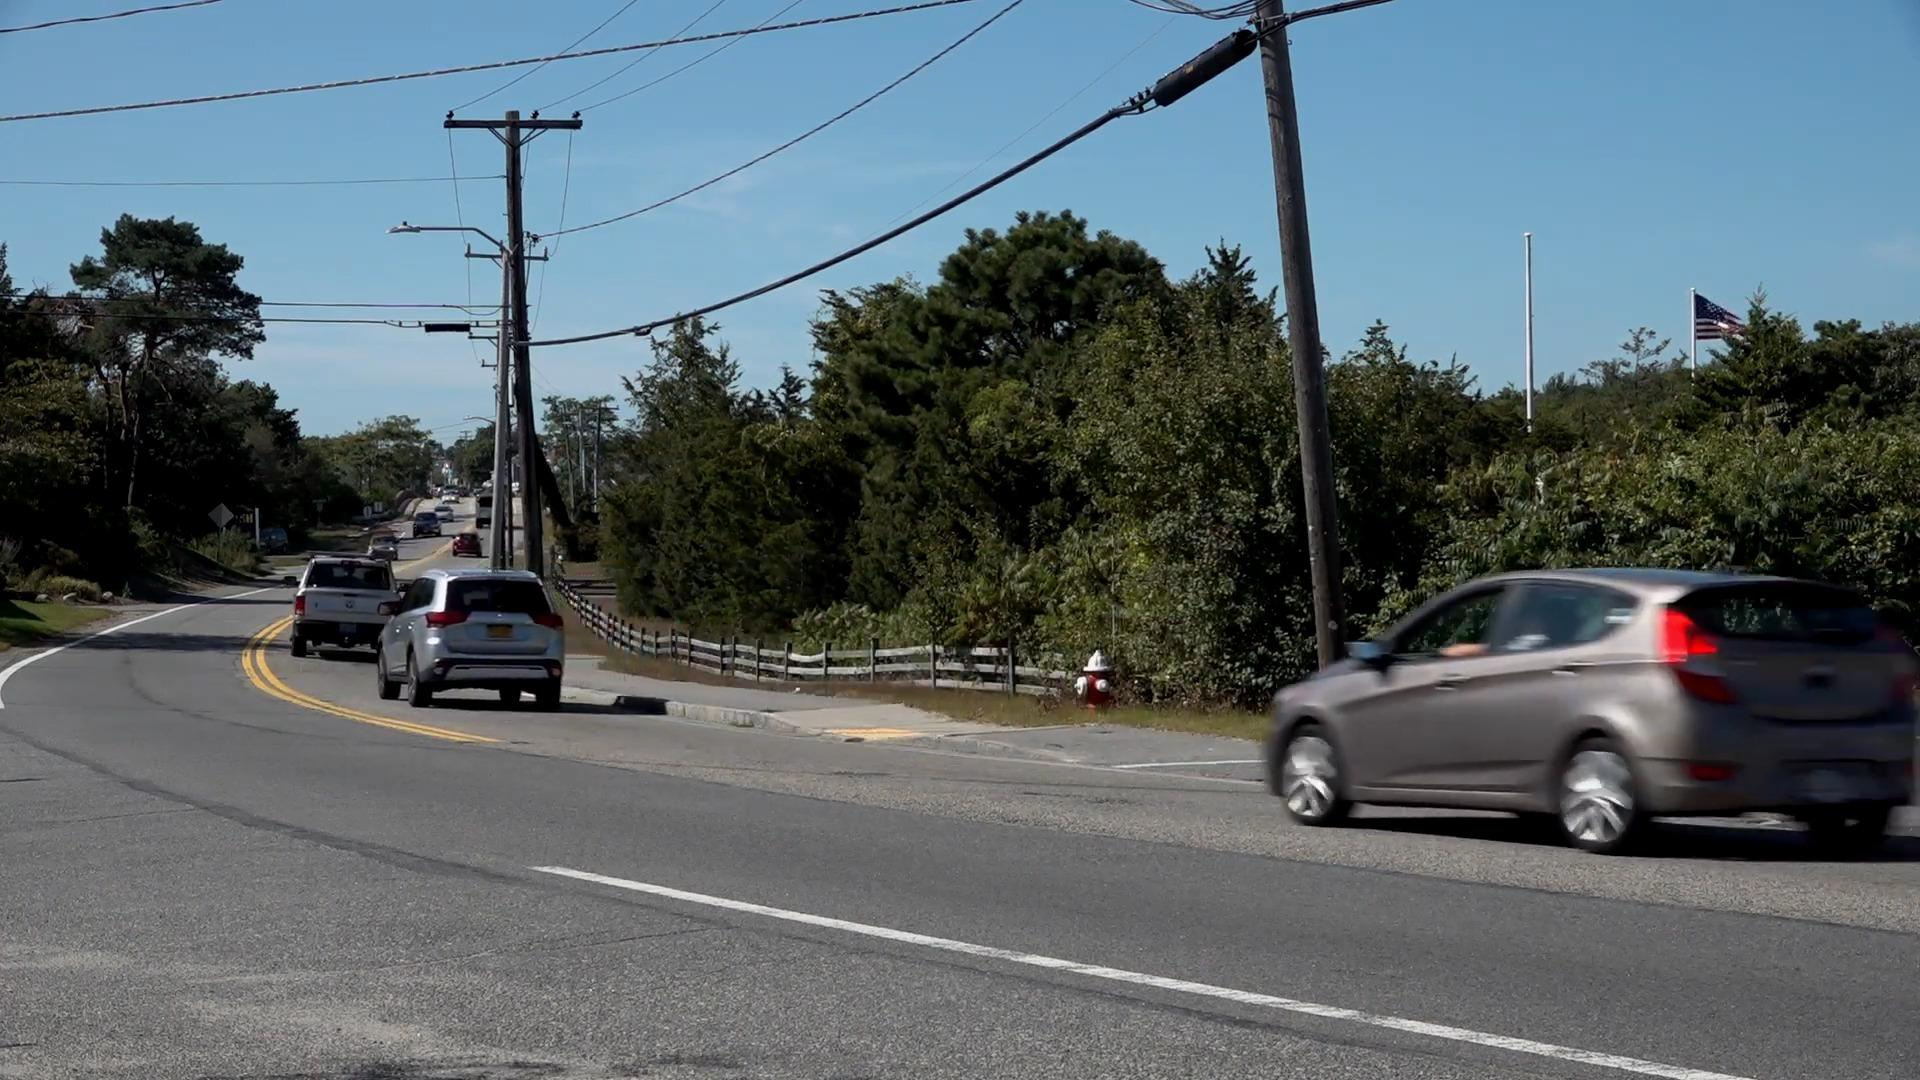sedans: (1265, 563, 1915, 853)
suv: (371, 567, 567, 715)
